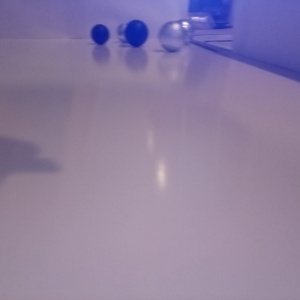alive_ball: (1, 154, 262, 300)
dead_ball: (56, 28, 145, 120)
